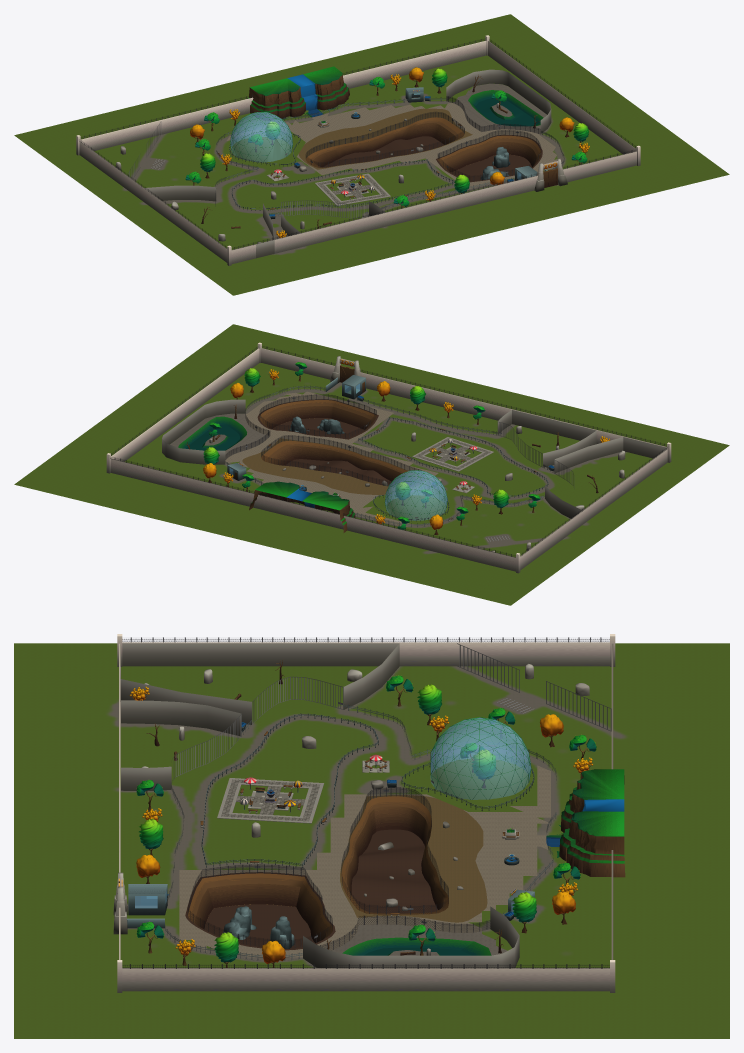
The model's file is Zoo.gltf.
The picture shows the model from 3 angles, top to bottom: view 1: azimuth 30°, elevation 25°; view 2: azimuth 150°, elevation 25°; view 3: azimuth 270°, elevation 25°; orthographic projection. The views are drawn at different scales.
Visible parts, largest first — view 1: Ground_m, Zoo_Entrance, Alligater_Area, Zoo_Path, Ducks_Area, Waterfall, Bear_Area, Trees, Dome_Dome, Lion_Area, Park, Tiger_Area (+2 smaller); view 2: Ground_m, Zoo_Entrance, Alligater_Area, Zoo_Path, Ducks_Area, Bear_Area, Trees, Dome_Dome, Tiger_Area, Lion_Area, Waterfall, Park (+1 smaller); view 3: Ground_m, Zoo_Entrance, Alligater_Area, Zoo_Path, Lion_Area, Bear_Area, Ducks_Area, Trees, Dome_Dome, Waterfall, Tiger_Area, Park (+3 smaller).
Boxes of the visible parts, bbox=[...] form: Ground_m: bbox=[14, 14, 729, 295]; Zoo_Entrance: bbox=[76, 35, 640, 265]; Alligater_Area: bbox=[298, 108, 472, 169]; Zoo_Path: bbox=[215, 97, 564, 215]; Ducks_Area: bbox=[446, 69, 551, 134]; Waterfall: bbox=[247, 66, 360, 120]; Bear_Area: bbox=[436, 130, 542, 182]; Trees: bbox=[185, 67, 589, 237]; Dome_Dome: bbox=[229, 112, 306, 171]; Lion_Area: bbox=[144, 185, 274, 258]; Park: bbox=[315, 173, 390, 205]; Tiger_Area: bbox=[281, 200, 385, 235]; Ground_m: bbox=[14, 324, 729, 605]; Zoo_Entrance: bbox=[106, 342, 671, 573]; Alligater_Area: bbox=[242, 435, 428, 494]; Zoo_Path: bbox=[225, 385, 553, 527]; Ducks_Area: bbox=[162, 399, 270, 464]; Bear_Area: bbox=[257, 394, 378, 439]; Trees: bbox=[203, 362, 609, 535]; Dome_Dome: bbox=[373, 470, 449, 521]; Tiger_Area: bbox=[497, 410, 596, 467]; Lion_Area: bbox=[545, 437, 666, 518]; Waterfall: bbox=[249, 481, 355, 532]; Park: bbox=[412, 437, 493, 471]; Ground_m: bbox=[14, 643, 729, 1038]; Zoo_Entrance: bbox=[113, 634, 615, 992]; Alligater_Area: bbox=[340, 787, 487, 922]; Zoo_Path: bbox=[165, 704, 556, 960]; Lion_Area: bbox=[120, 643, 399, 724]; Bear_Area: bbox=[185, 864, 335, 950]; Ducks_Area: bbox=[303, 906, 519, 967]; Trees: bbox=[129, 675, 596, 967]; Dome_Dome: bbox=[371, 717, 534, 810]; Waterfall: bbox=[504, 769, 625, 877]; Tiger_Area: bbox=[121, 700, 241, 790]; Park: bbox=[217, 777, 324, 823].
Size of the model in its own units: 275 by 26.57 by 210.
15 materials, 15 textured.
